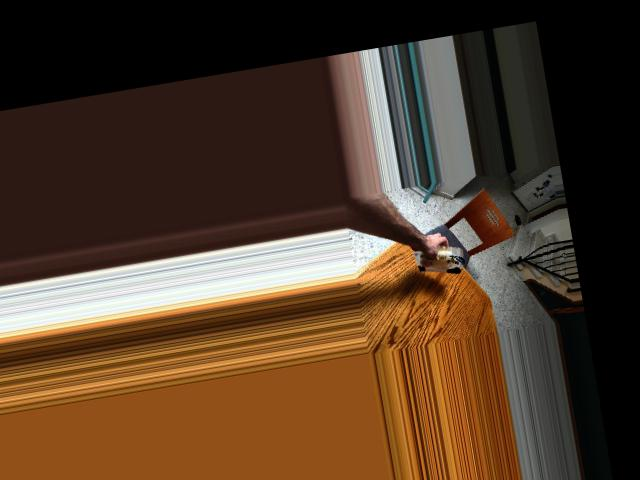cheese: (413, 240, 464, 280)
